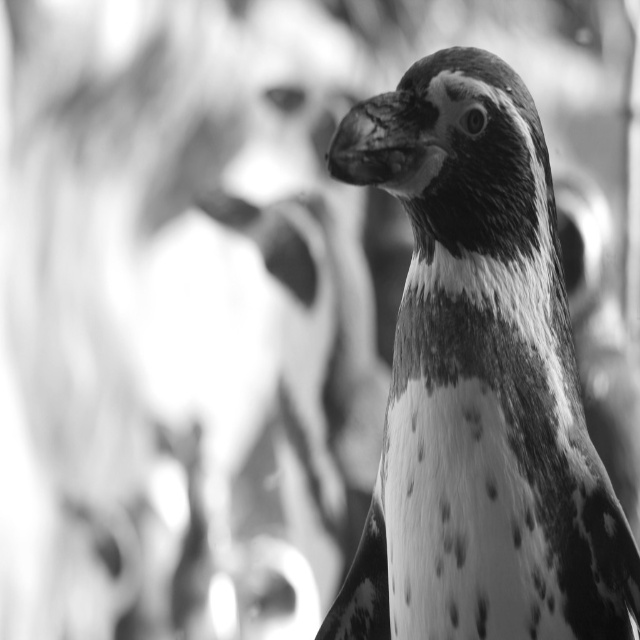Penguin: (325, 70, 615, 640)
